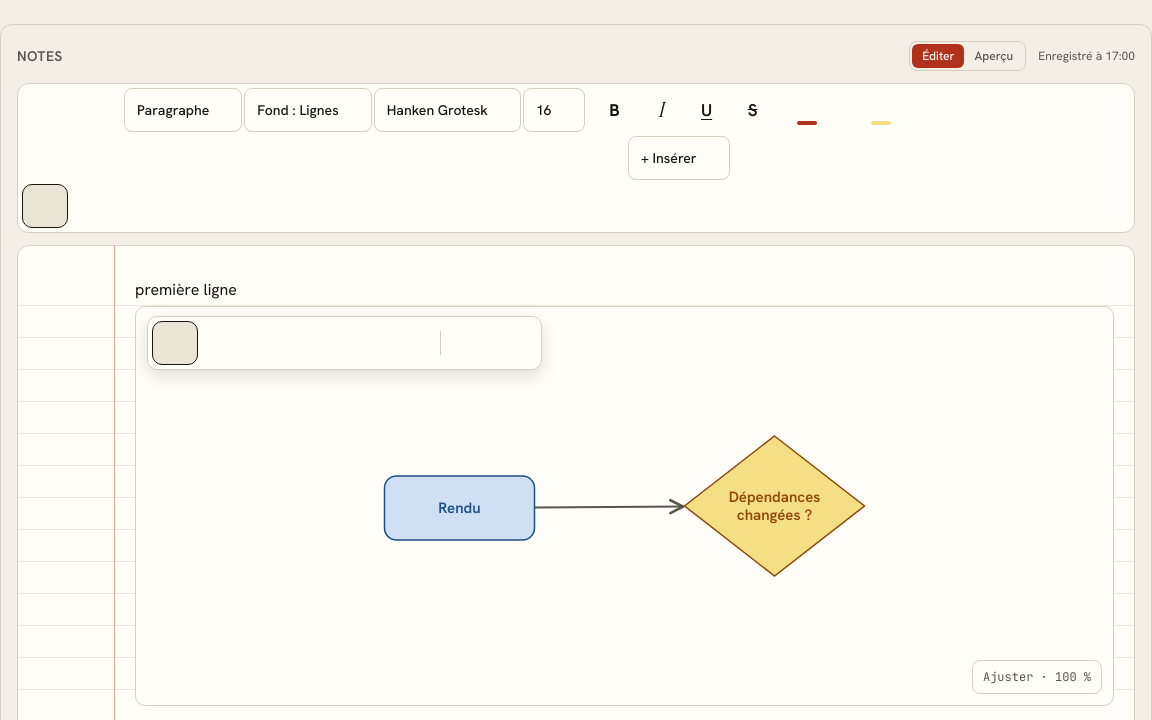
Test: diagrams in a note (YC-53) › in « Aperçu », a picture that says its words, nothing to change
Click the button "Aperçu": (994, 56) [964, 44, 1023, 68]
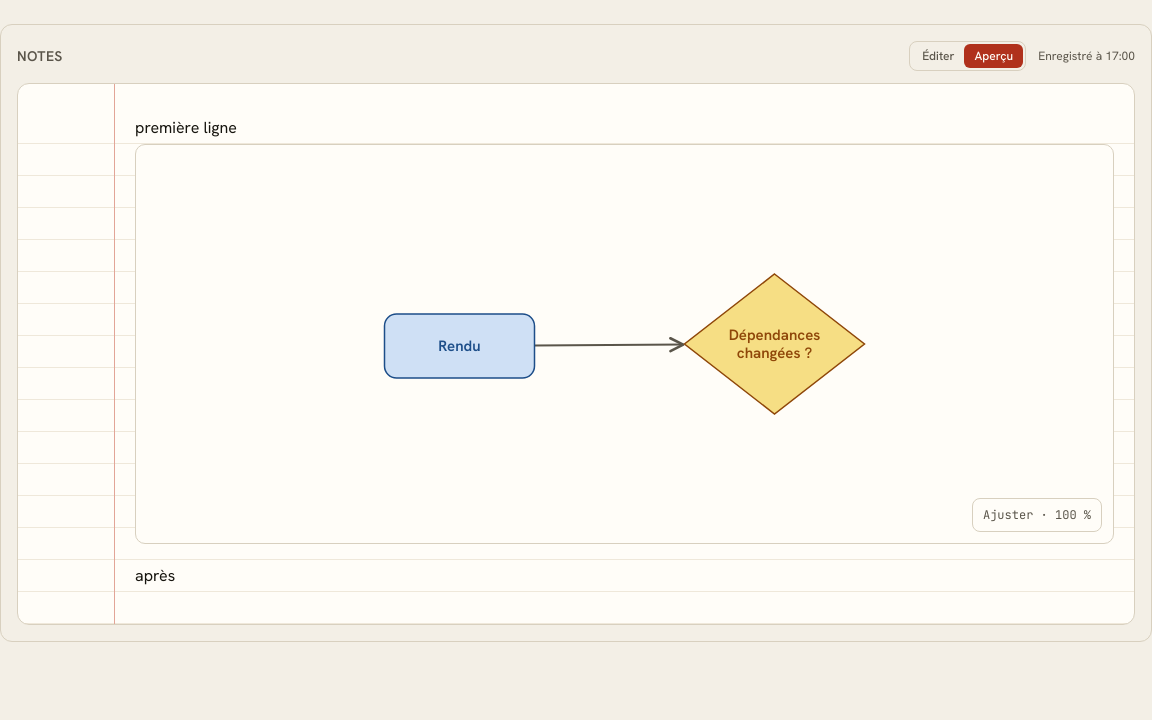
expect the picture named "Schéma : Rendu, Dépendances changées ?" is shown: met, box [136, 145, 1113, 543]
expect the button "Schéma" is gone: met
